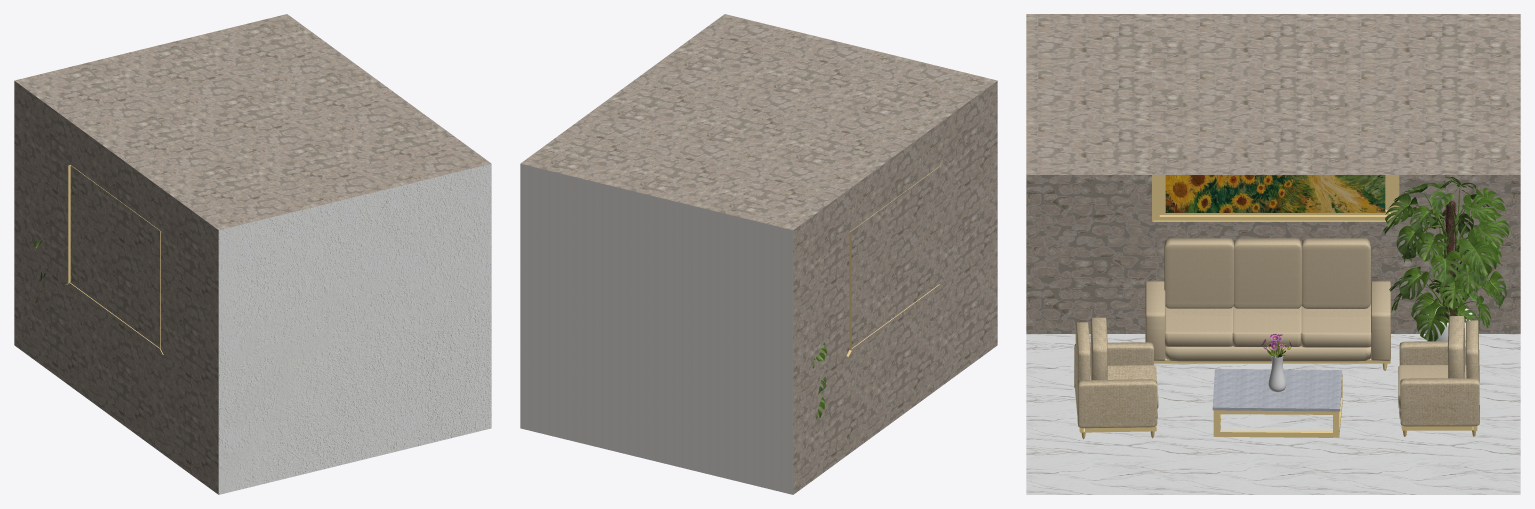
The model's file is velvet-room.glb.
3 renders of one model, left to right at view 1: azimuth 30°, elevation 25°; view 2: azimuth 150°, elevation 25°; view 3: azimuth 270°, elevation 25°, orthographic. The views are drawn at different scales.
Visible parts, largest first — view 1: Cube, Cube.002, Cube.001; view 2: Cube, Cube.003, Cube.001; view 3: Cube, Cube.004, Leaves, Sunflowers Van Gogh Style, Cube.030, Cube.017, Cube.023, Cube.012, Cube.014, Cube.013, Cube.001, Cube.007 (+13 smaller).
Part boxes in pixels (x1,y1,x2,y2): Cube: [14, 14, 491, 494]; Cube.002: [218, 164, 491, 494]; Cube.001: [65, 165, 163, 354]; Cube: [520, 14, 997, 494]; Cube.003: [520, 164, 793, 494]; Cube.001: [846, 166, 941, 356]; Cube: [1026, 14, 1520, 333]; Cube.004: [1026, 334, 1520, 494]; Leaves: [1383, 175, 1509, 341]; Sunflowers Van Gogh Style: [1165, 175, 1385, 212]; Cube.030: [1074, 342, 1157, 428]; Cube.017: [1212, 368, 1342, 411]; Cube.023: [1399, 340, 1479, 426]; Cube.012: [1164, 238, 1233, 308]; Cube.014: [1301, 238, 1370, 308]; Cube.013: [1233, 238, 1301, 308]; Cube.001: [1152, 175, 1399, 221]; Cube.007: [1145, 281, 1390, 360].
Bounding box in the file's own units: 29.03 × 26.51 × 36.95.
18 materials, 13 textured.
